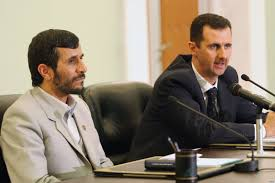middle_eastern_male: (194, 11, 236, 76)
